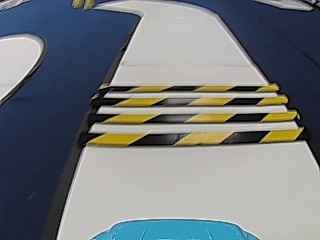bump: (105, 82, 276, 151)
